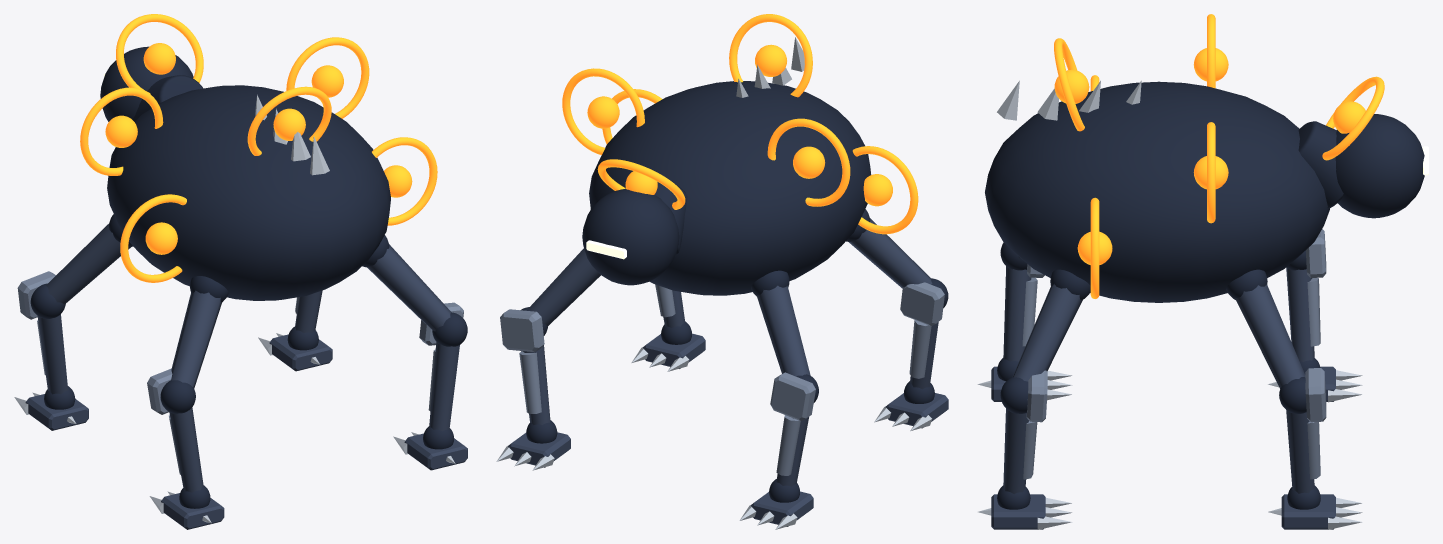
The model's file is enemy_carapace.glb.
3 renders of one model, left to right at view 1: azimuth 30°, elevation 25°; view 2: azimuth 150°, elevation 25°; view 3: azimuth 270°, elevation 25°, orthographic. The views are drawn at different scales.
Parts seen in each view (by area): view 1: carapace_body, carapace_leg_bl_thigh, carapace_leg_br_thigh, carapace_leg_fl_thigh, carapace_head, carapace_leg_br_shin, carapace_leg_bl_shin, carapace_leg_fl_shin, carapace_seam0, carapace_seam1, carapace_seam2, carapace_seam3 (+23 smaller); view 2: carapace_body, carapace_head, carapace_leg_fl_thigh, carapace_leg_fr_thigh, carapace_leg_bl_thigh, carapace_leg_fl_knee_cap, carapace_leg_fr_knee_cap, carapace_seam2, carapace_seam5, carapace_seam1, carapace_leg_bl_knee_cap, carapace_seam3 (+21 smaller); view 3: carapace_body, carapace_head, carapace_leg_fr_thigh, carapace_leg_br_thigh, carapace_neck, carapace_leg_bl_shin, carapace_leg_fl_shin, carapace_leg_br_shin, carapace_leg_fr_shin, carapace_leg_fr_sole, carapace_leg_br_sole, carapace_seam0 (+22 smaller).
Part boxes in pixels (bbox=[...]): carapace_body: bbox=[107, 85, 390, 300]; carapace_leg_bl_thigh: bbox=[171, 290, 221, 388]; carapace_leg_br_thigh: bbox=[367, 244, 451, 331]; carapace_leg_fl_thigh: bbox=[46, 224, 130, 304]; carapace_head: bbox=[100, 46, 193, 121]; carapace_leg_br_shin: bbox=[429, 342, 459, 431]; carapace_leg_bl_shin: bbox=[169, 407, 203, 492]; carapace_leg_fl_shin: bbox=[37, 314, 68, 394]; carapace_seam0: bbox=[116, 14, 203, 93]; carapace_seam1: bbox=[80, 87, 163, 175]; carapace_seam2: bbox=[286, 37, 369, 118]; carapace_seam3: bbox=[120, 194, 186, 282]; carapace_body: bbox=[589, 81, 871, 295]; carapace_head: bbox=[582, 188, 679, 285]; carapace_leg_fl_thigh: bbox=[756, 285, 810, 376]; carapace_leg_fr_thigh: bbox=[528, 248, 600, 326]; carapace_leg_bl_thigh: bbox=[849, 218, 932, 288]; carapace_leg_fl_knee_cap: bbox=[770, 372, 815, 420]; carapace_leg_fr_knee_cap: bbox=[500, 309, 544, 352]; carapace_seam2: bbox=[562, 68, 644, 155]; carapace_seam5: bbox=[729, 14, 812, 97]; carapace_seam1: bbox=[767, 118, 850, 206]; carapace_leg_bl_knee_cap: bbox=[900, 282, 944, 326]; carapace_seam3: bbox=[852, 146, 918, 234]; carapace_body: bbox=[985, 81, 1329, 302]; carapace_head: bbox=[1335, 114, 1424, 218]; carapace_leg_fr_thigh: bbox=[1235, 284, 1305, 388]; carapace_leg_br_thigh: bbox=[1012, 284, 1082, 381]; carapace_neck: bbox=[1298, 121, 1343, 208]; carapace_leg_bl_shin: bbox=[1003, 266, 1031, 361]; carapace_leg_fl_shin: bbox=[1286, 268, 1314, 361]; carapace_leg_br_shin: bbox=[1003, 408, 1028, 493]; carapace_leg_fr_shin: bbox=[1286, 410, 1314, 493]; carapace_leg_fr_sole: bbox=[1281, 494, 1335, 529]; carapace_leg_br_sole: bbox=[991, 494, 1045, 529]; carapace_seam0: bbox=[1322, 76, 1384, 160].
Bounding box in the file's own units: 1.35 × 1.57 × 1.56.
